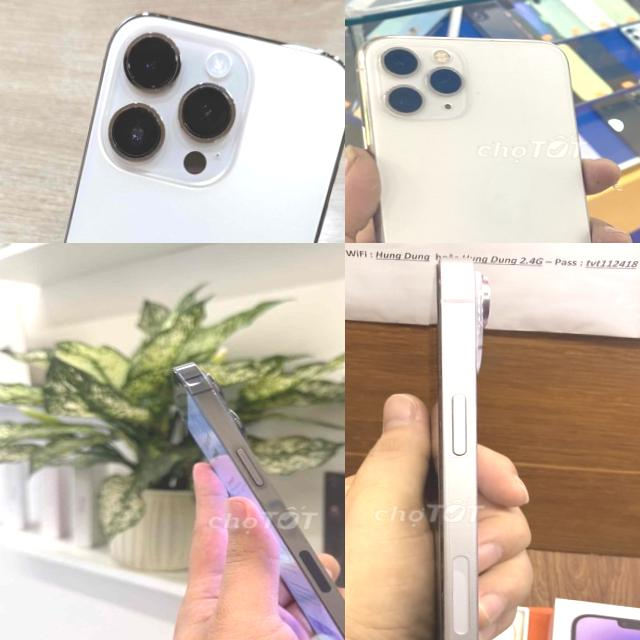gen_11: (356, 35, 592, 243)
gen_12_13: (162, 353, 345, 640)
gen_14: (13, 4, 345, 243), (404, 244, 497, 640)
